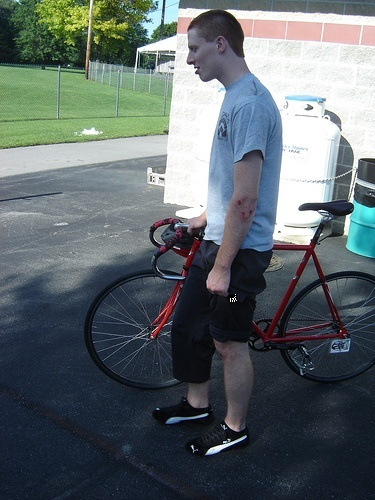car: (84, 202, 375, 386)
person: (153, 11, 284, 457)
person/foot: (186, 420, 249, 457), (154, 401, 212, 425)
person/hand: (207, 268, 229, 299), (185, 218, 200, 233)
person/head: (187, 8, 245, 83)
